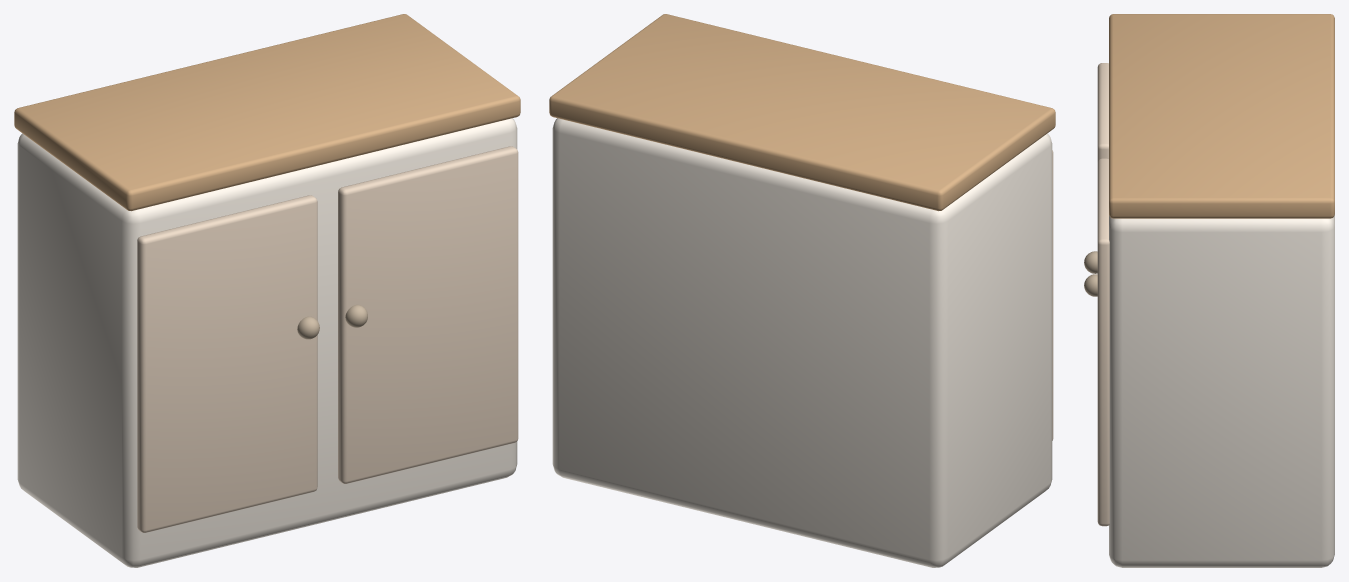
The model's file is cabinet.glb.
3 views of the same model, side by side, from view 1: azimuth 30°, elevation 25°; view 2: azimuth 150°, elevation 25°; view 3: azimuth 270°, elevation 25° (orthographic). The views are drawn at different scales.
Visible parts, largest first — view 1: cabinet; view 2: cabinet; view 3: cabinet.
Part boxes in pixels (x1,y1,x2,y2): cabinet: (14, 14, 520, 567); cabinet: (549, 14, 1055, 567); cabinet: (1084, 14, 1334, 567).
Size of the model in its own units: 0.98 by 0.91 by 0.555.
